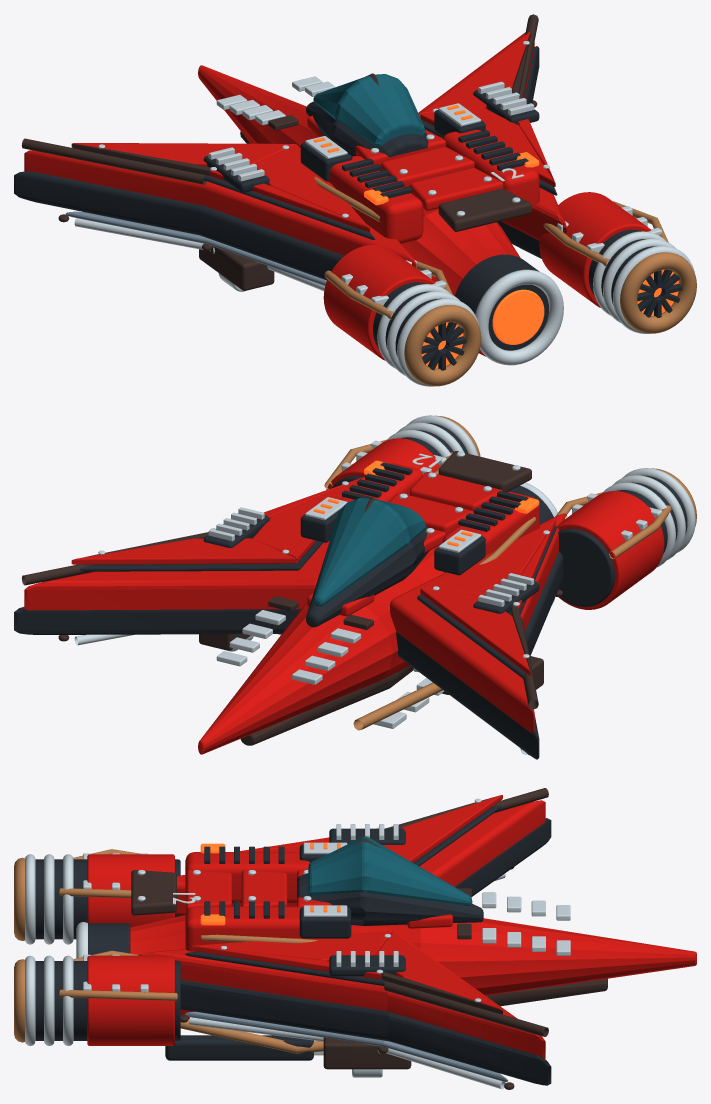
3 renders of one model, top to bottom at view 1: azimuth 30°, elevation 25°; view 2: azimuth 150°, elevation 25°; view 3: azimuth 270°, elevation 25°, orthographic. The views are drawn at different scales.
Visible parts, largest first — view 1: SolidHull_12; view 2: SolidHull_12; view 3: SolidHull_12.
Boxes of the visible parts, x1=… form: SolidHull_12: x1=14, y1=14, x2=696, y2=386; SolidHull_12: x1=14, y1=415, x2=696, y2=759; SolidHull_12: x1=14, y1=788, x2=696, y2=1089.
Size of the model in its own units: 3.07 by 1.15 by 3.59.
